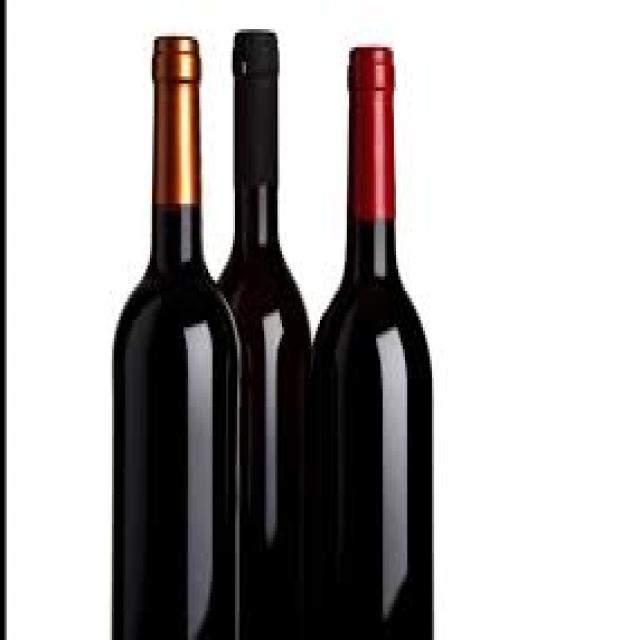Vidrio: (105, 15, 239, 640), (306, 18, 436, 640), (212, 15, 319, 640)
